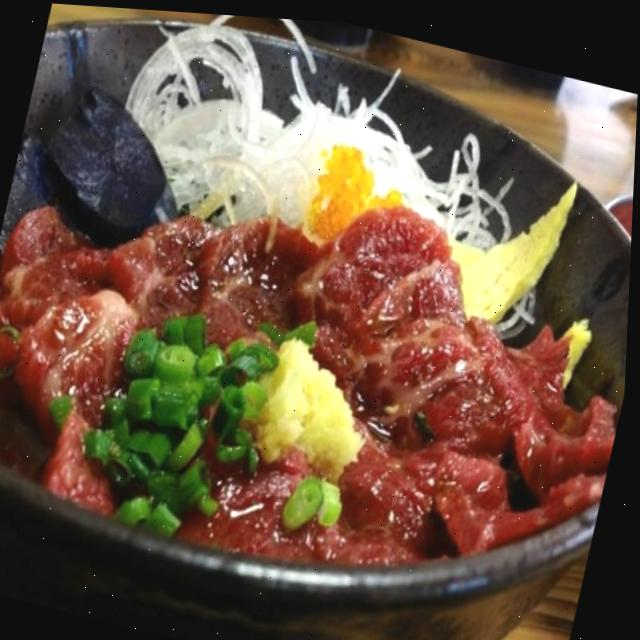刺身生食: (0, 88, 637, 636)
